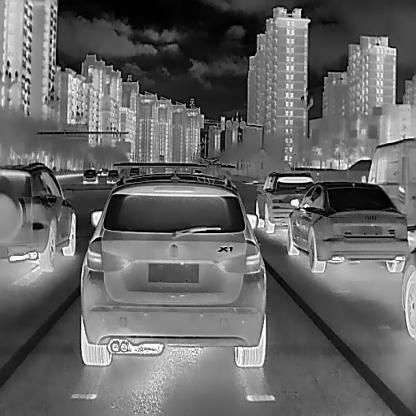car: (73, 169, 268, 370), (284, 179, 410, 273), (0, 160, 75, 272), (360, 136, 415, 266), (254, 170, 313, 235), (81, 168, 99, 184), (106, 168, 118, 184)
